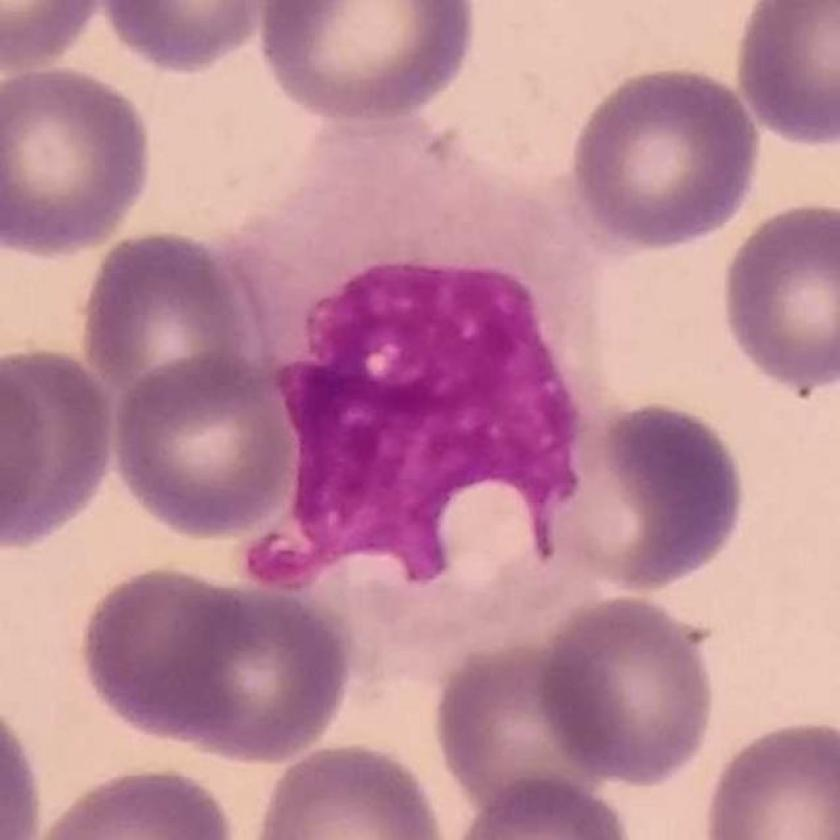monocyte: (231, 105, 631, 682)
